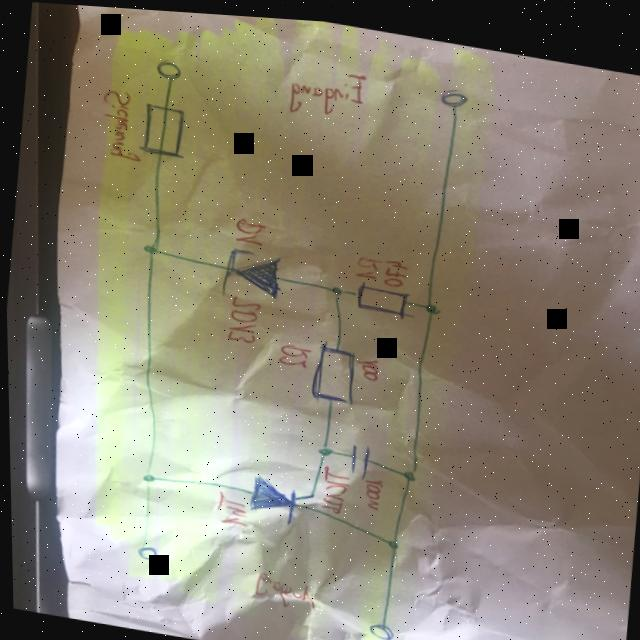capacitor: (340, 435, 373, 476)
diode: (216, 239, 284, 301)
junction: (396, 459, 415, 476), (420, 293, 440, 309), (312, 438, 333, 453), (327, 277, 344, 295), (139, 238, 159, 253), (382, 531, 397, 544), (137, 468, 152, 481)
resistor: (306, 333, 359, 401), (349, 273, 415, 313)
terminal: (435, 77, 469, 106), (151, 52, 183, 81), (361, 612, 394, 636), (130, 538, 156, 560)
text: (283, 54, 366, 120), (94, 84, 146, 161), (248, 564, 317, 608), (222, 289, 260, 342), (315, 458, 349, 509), (211, 484, 247, 523), (230, 211, 268, 244), (273, 335, 309, 365), (379, 249, 409, 283), (350, 246, 381, 275), (358, 469, 382, 505), (352, 346, 379, 376)
thyristor: (243, 467, 314, 523)
